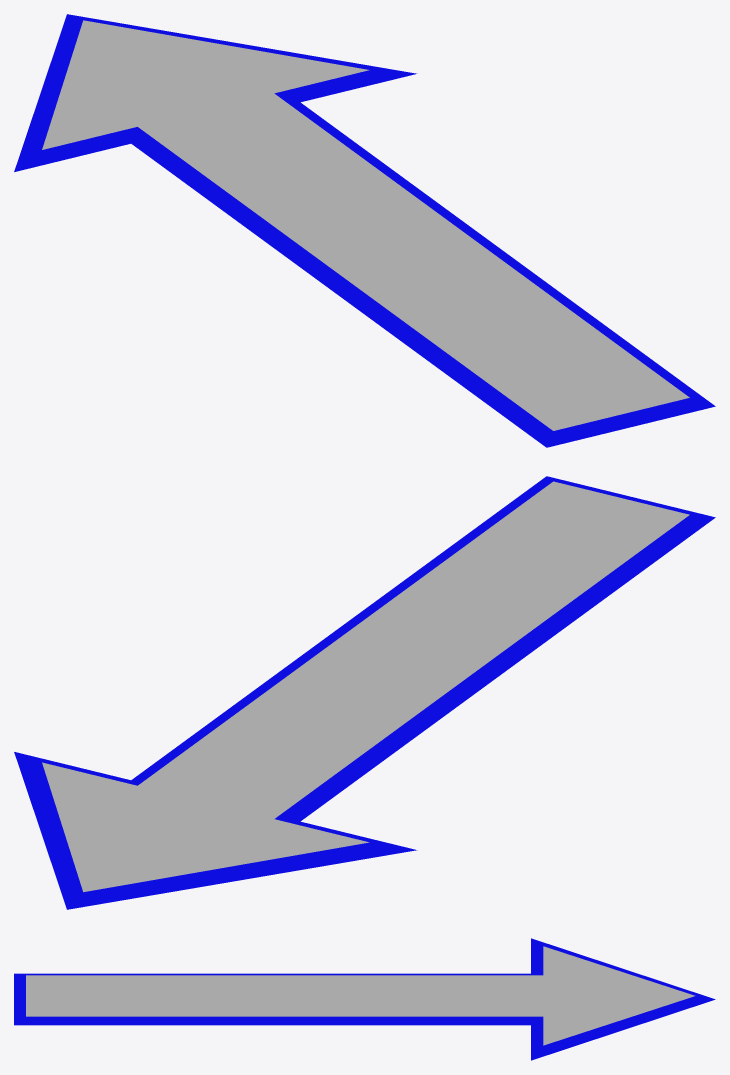
File: Car10_Arrow.fbx
The picture shows the model from 3 angles, top to bottom: view 1: azimuth 30°, elevation 25°; view 2: azimuth 150°, elevation 25°; view 3: azimuth 270°, elevation 25°; orthographic projection. The views are drawn at different scales.
Visible parts, largest first — view 1: pCube6, pCube7; view 2: pCube6, pCube7; view 3: pCube6, pCube7.
Part boxes in pixels (x1,y1,x2,y2): pCube6: (42, 20, 689, 430); pCube7: (14, 14, 715, 447); pCube6: (42, 481, 689, 892); pCube7: (14, 476, 715, 909); pCube6: (26, 946, 695, 1045); pCube7: (14, 938, 715, 1060).
Bounding box in the file's own units: 73.83 × 1 × 179.
